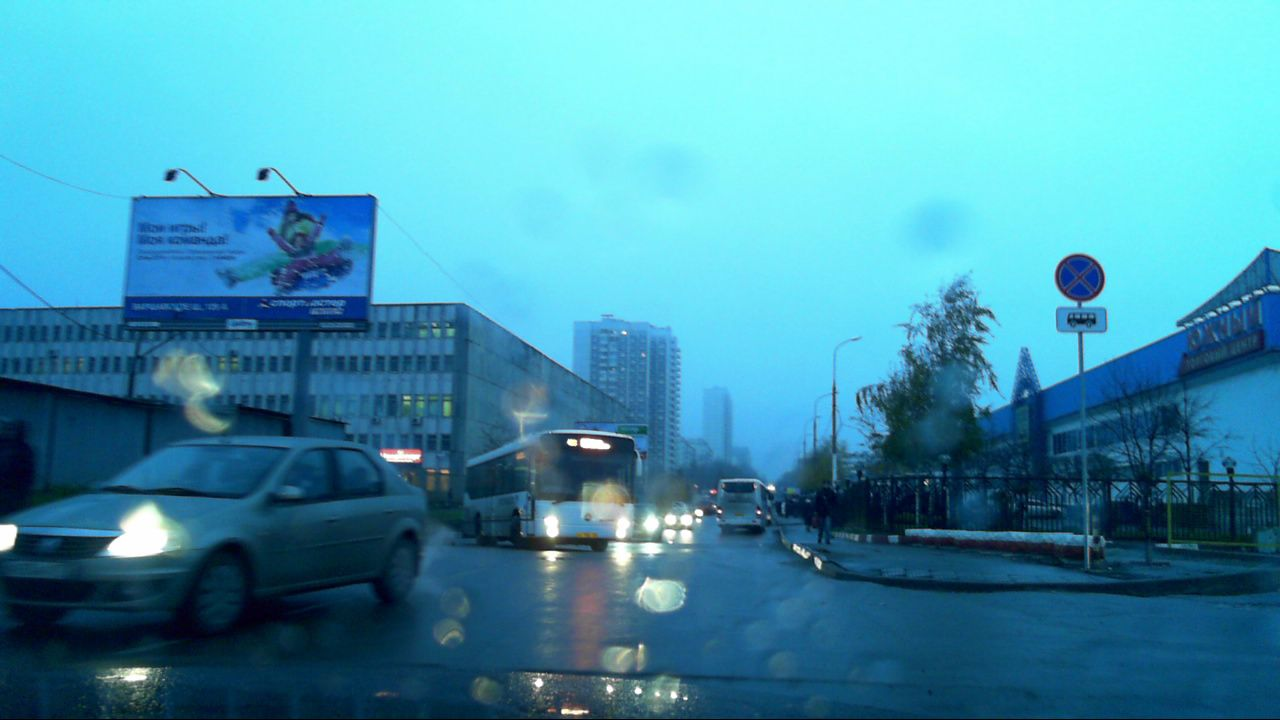No Parking: (1054, 253, 1106, 303)
